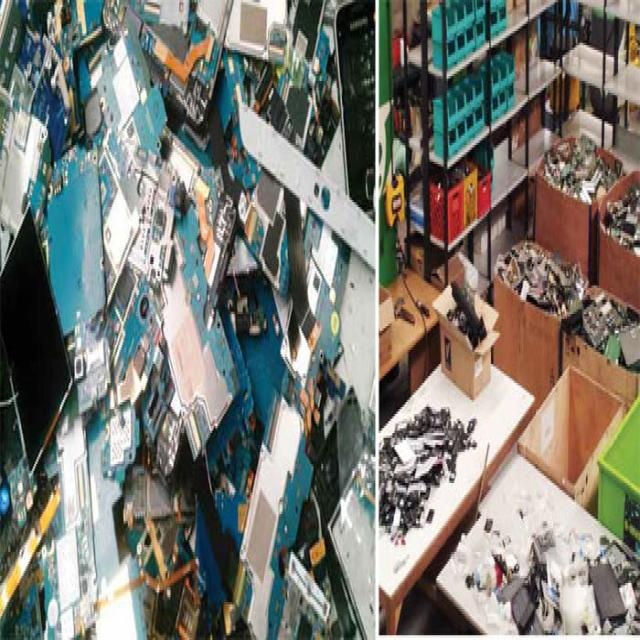Hazard: (1, 0, 638, 640)
